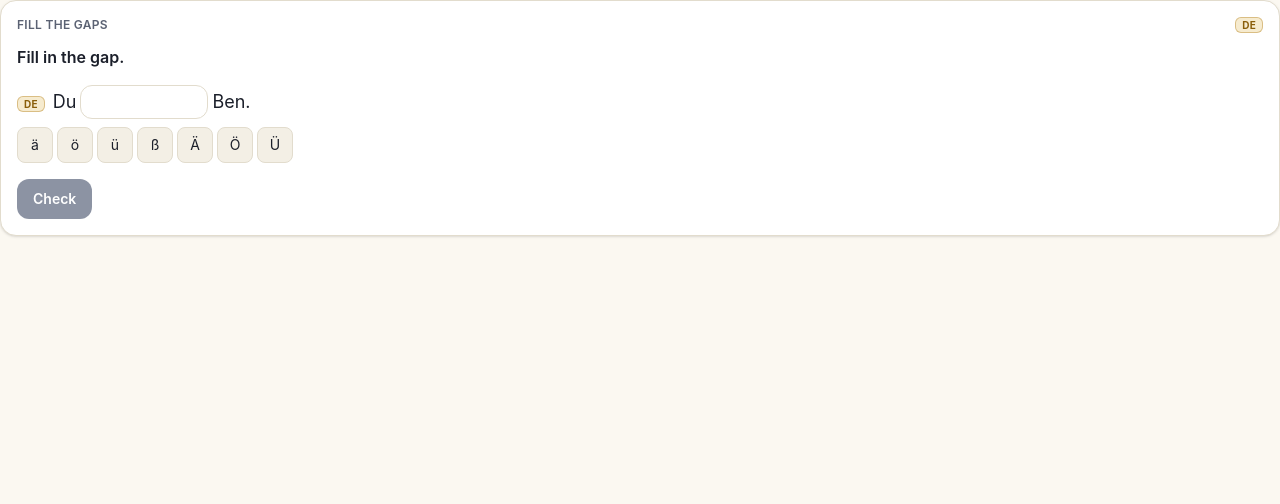
Test: ExercisePlayer — gap › marks a wrong word and shows the model answer
Type "bin" into the field named "Gap 1" at (144, 102), box x1=80 y1=85 x2=208 y2=119
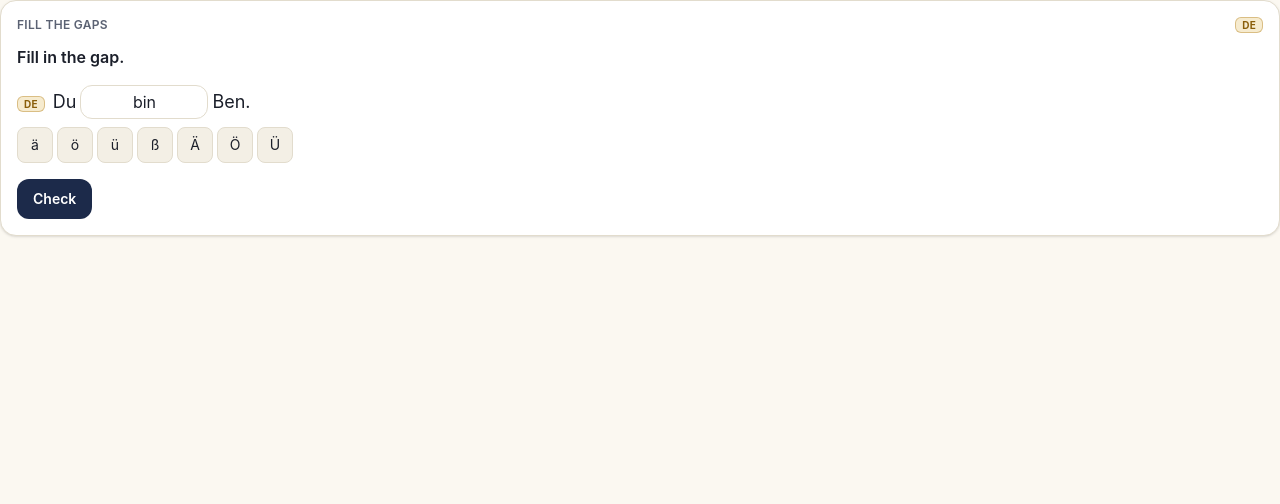
Click the button "Check" at (55, 199), box x1=17 y1=179 x2=92 y2=219
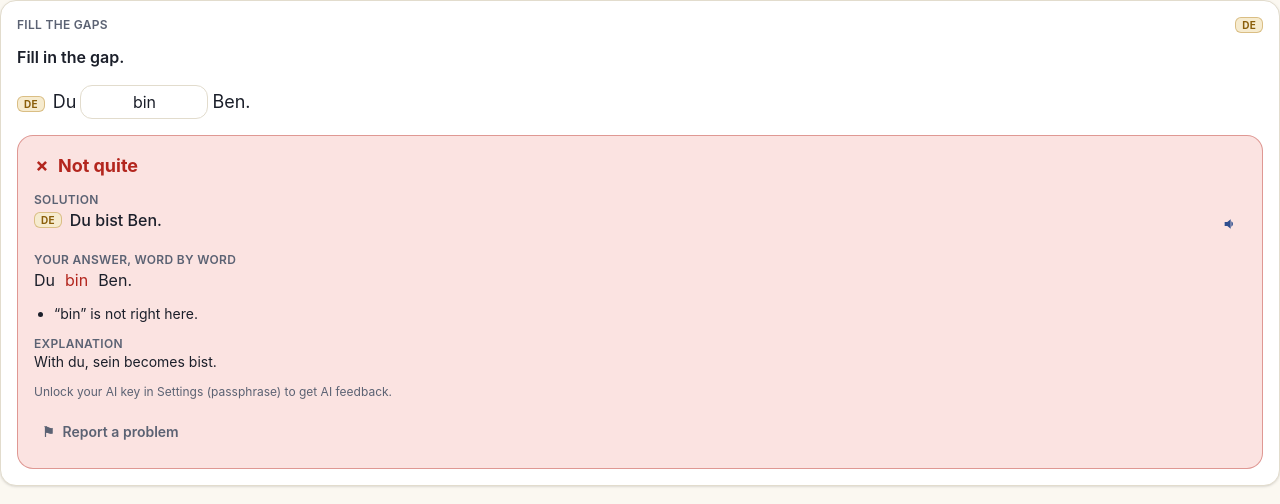
Check: the text "Solution" is shown, box x1=34 y1=192 x2=99 y2=207
Check: the text "With du, sein becomes bist." is shown, box x1=34 y1=353 x2=217 y2=370
